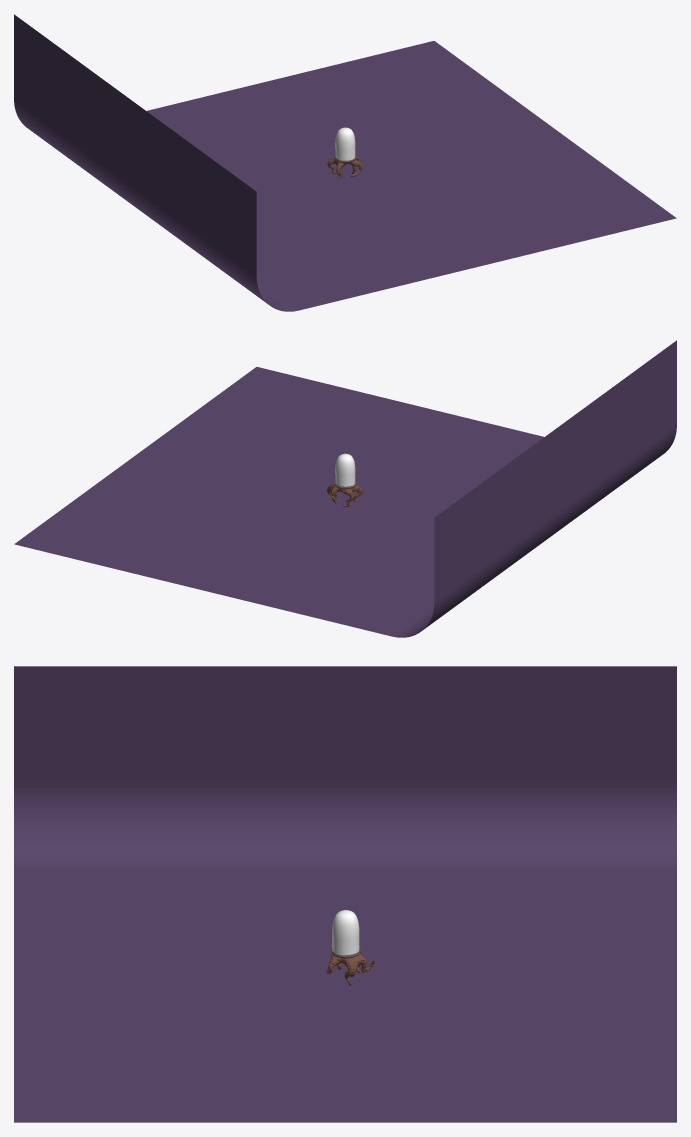
Rendered from octopusa.gltf.
3 views of the same model, one above another, from view 1: azimuth 30°, elevation 25°; view 2: azimuth 150°, elevation 25°; view 3: azimuth 270°, elevation 25° (orthographic). The views are drawn at different scales.
Parts seen in each view (by area): view 1: Plane, Cone; view 2: Plane, Cone; view 3: Plane, Cone.
Part boxes in pixels (x1,y1,x2,y2): Plane: (14,14,676,311); Cone: (335,127,355,160); Plane: (14,340,676,637); Cone: (335,453,355,486); Plane: (14,666,676,1122); Cone: (332,910,359,955).
Size of the model in its own units: 18.68 by 5.48 by 18.68.
